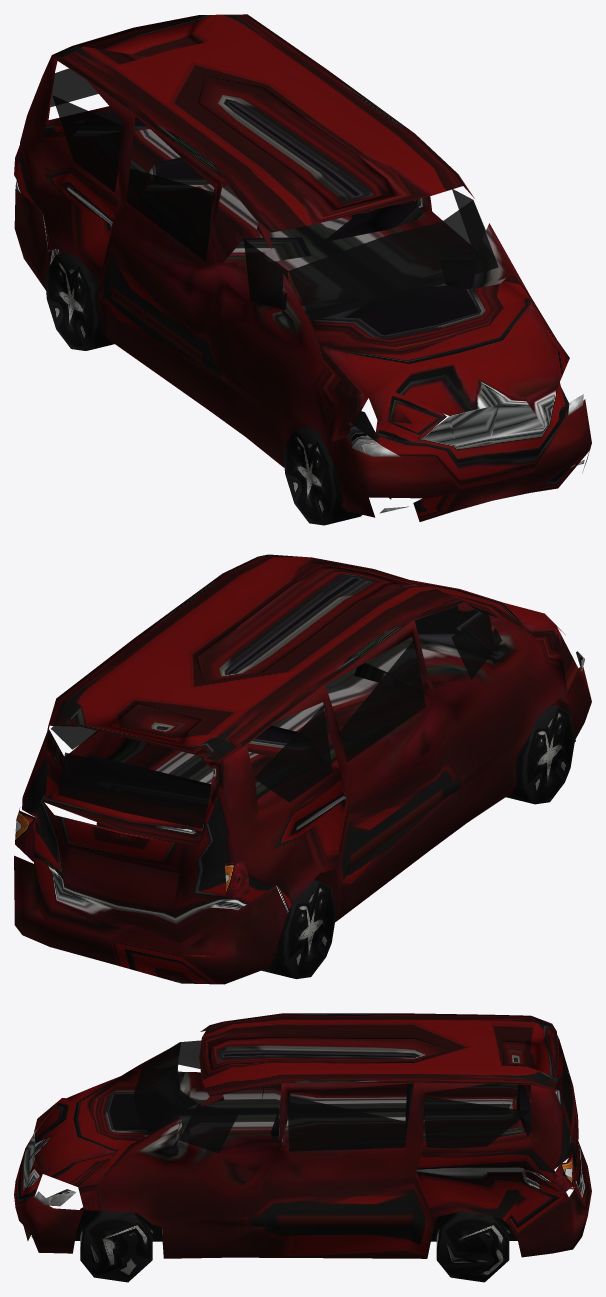
Rendered from minivan_far.glb.
The picture shows the model from 3 angles, top to bottom: view 1: azimuth 30°, elevation 25°; view 2: azimuth 150°, elevation 25°; view 3: azimuth 270°, elevation 25°; orthographic projection. The views are drawn at different scales.
Visible parts, largest first — view 1: body, wheel_fr, wheel_rr; view 2: body, wheel_rr, wheel_fr; view 3: body, wheel_fl, wheel_rl.
Part boxes in pixels (x1,y1,x2,y2): body: (14, 14, 591, 521); wheel_fr: (284, 426, 362, 525); wheel_rr: (45, 252, 114, 350); body: (14, 554, 591, 984); wheel_rr: (261, 880, 336, 979); wheel_fr: (506, 705, 575, 804); body: (14, 1013, 591, 1258); wheel_fl: (80, 1210, 152, 1282); wheel_rl: (436, 1210, 509, 1282).
Size of the model in its own units: 1.8 by 1.84 by 4.89.
Materials: 4 (3 with a texture image).
